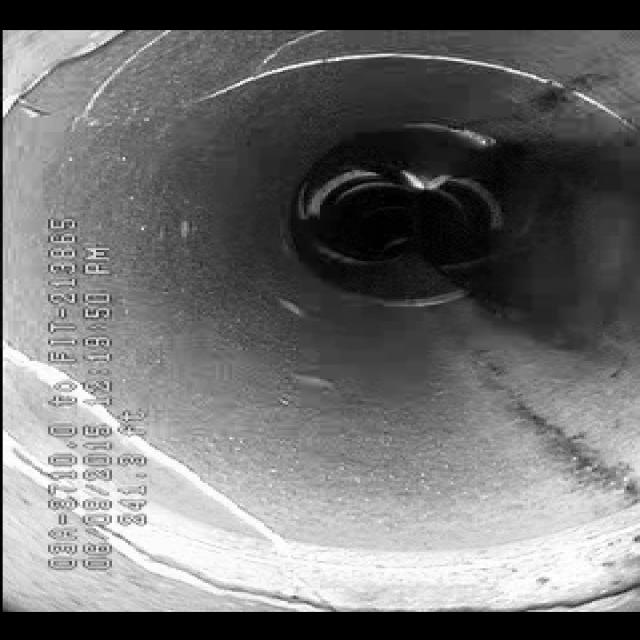Crack: (104, 421, 278, 543)
